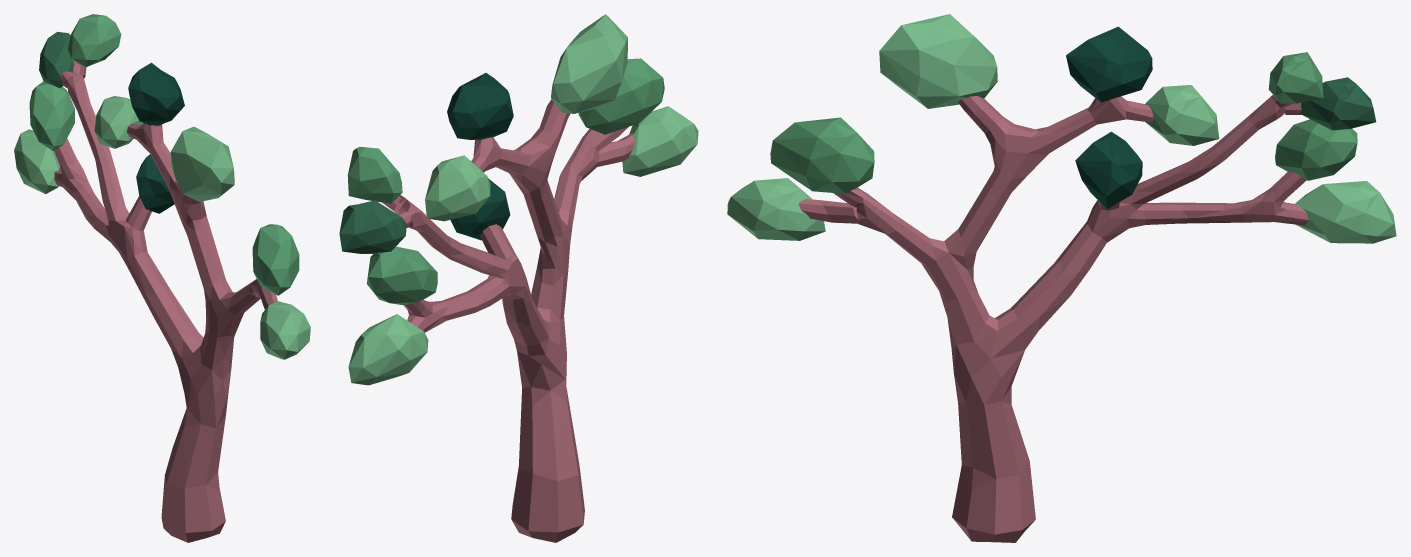
File: tree5.fbx
The picture shows the model from 3 angles, left to right: view 1: azimuth 30°, elevation 25°; view 2: azimuth 150°, elevation 25°; view 3: azimuth 270°, elevation 25°; orthographic projection. The views are drawn at different scales.
Visible parts, largest first — view 1: Icosphere.006; view 2: Icosphere.006; view 3: Icosphere.006.
Part boxes in pixels (x1,y1,x2,y2): Icosphere.006: (14,14,310,542); Icosphere.006: (339,14,698,542); Icosphere.006: (727,14,1396,542).
Bounding box in the file's own units: 167 × 768 × 913.
